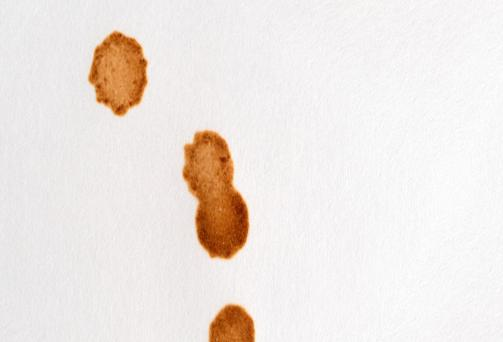stain: (180, 118, 255, 266), (85, 25, 154, 122), (205, 296, 258, 341)
